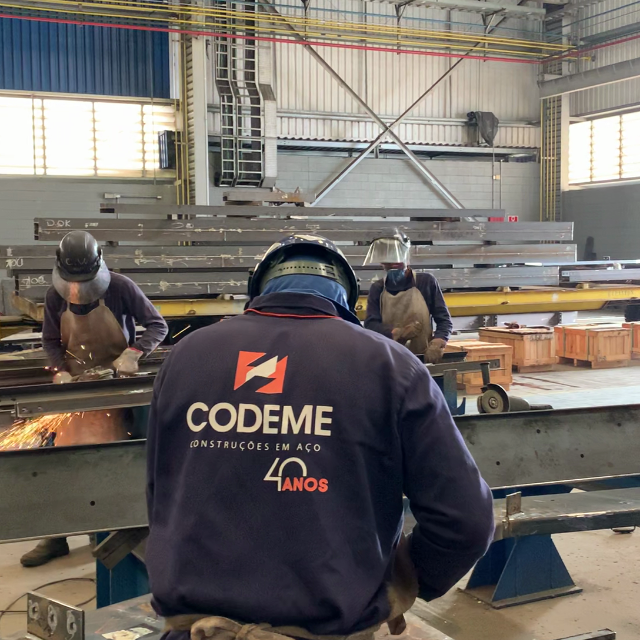face-shield: (48, 259, 114, 305), (364, 237, 411, 266)
glove: (112, 347, 144, 374), (423, 338, 445, 365)
helmet: (249, 233, 363, 309), (55, 229, 101, 284), (372, 224, 409, 240)
person: (142, 234, 496, 640), (41, 228, 170, 380), (364, 226, 454, 364)
